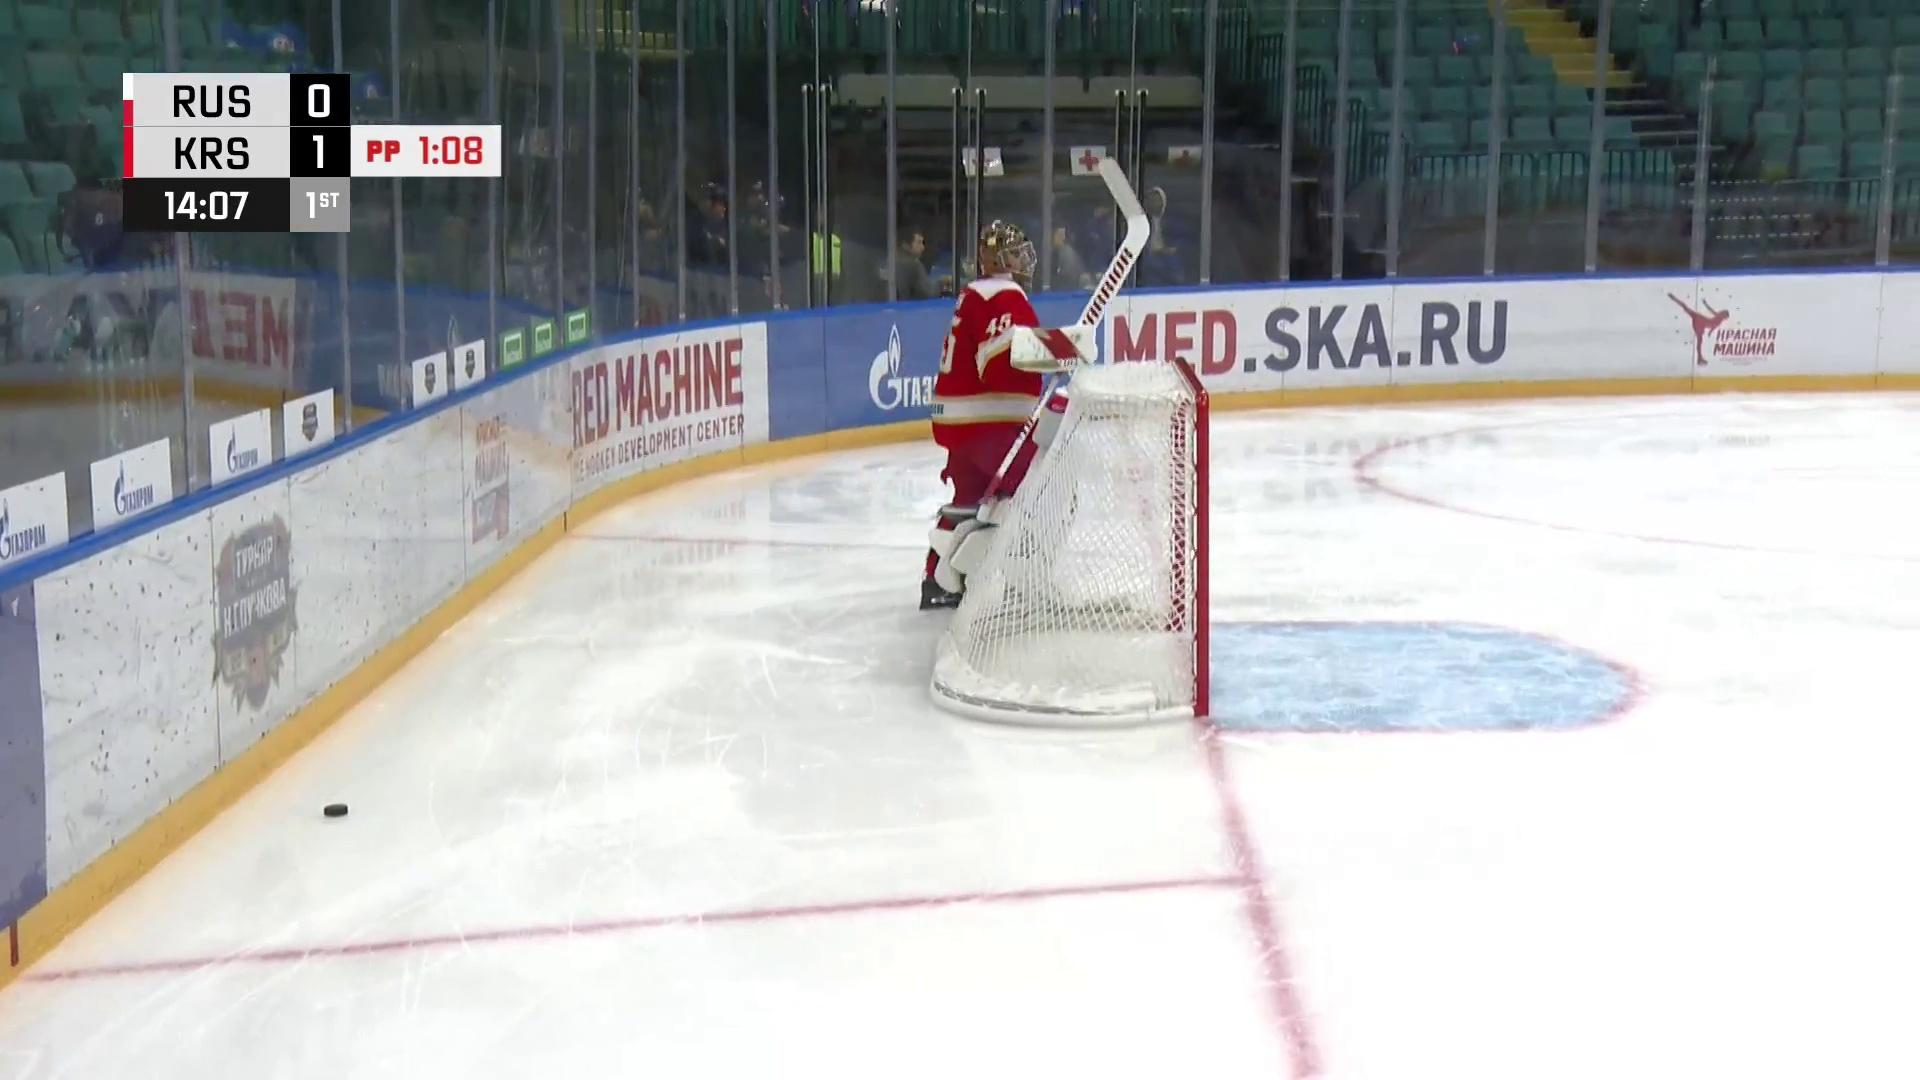ball: (322, 800, 351, 819)
